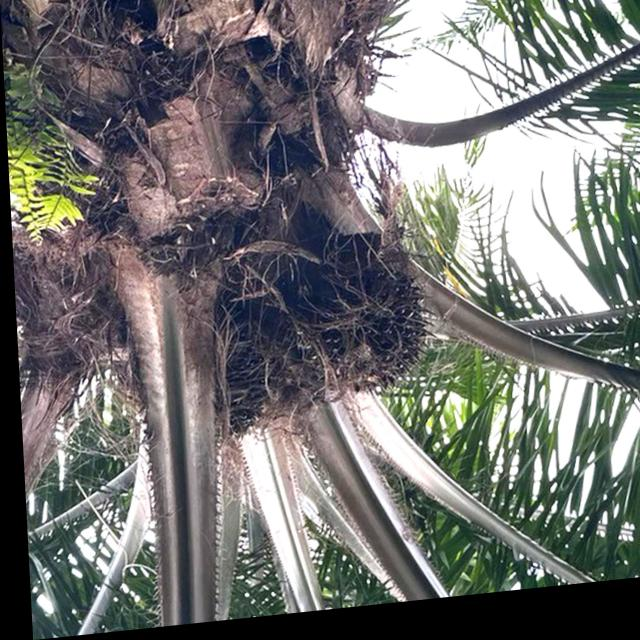almost: (278, 235, 434, 409), (123, 305, 259, 450)
